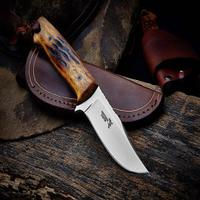knife: (32, 13, 150, 178)
